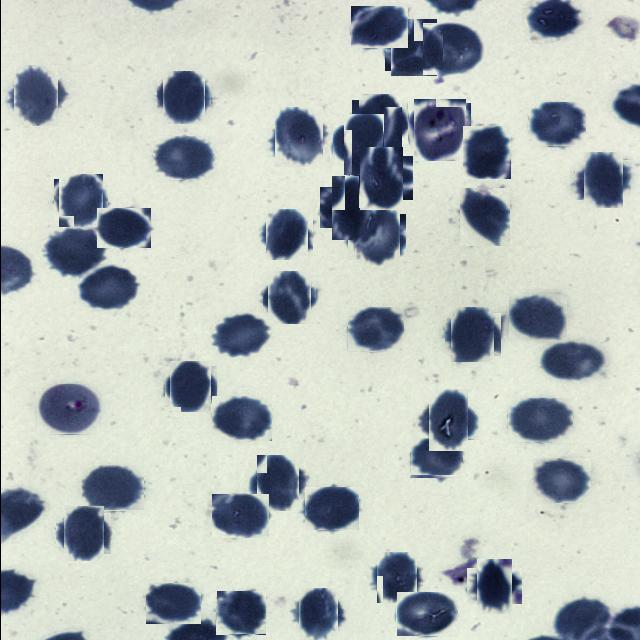red blood cell: (422, 23, 484, 75), (506, 398, 572, 443), (353, 151, 408, 205), (8, 69, 62, 123), (272, 110, 326, 164), (459, 188, 509, 246), (80, 465, 143, 511), (43, 228, 103, 276), (324, 182, 378, 234), (395, 592, 457, 637), (538, 340, 605, 381), (152, 136, 214, 180), (388, 22, 440, 74), (350, 211, 402, 263), (211, 396, 271, 441), (508, 294, 566, 340), (79, 265, 138, 310), (532, 458, 590, 503), (527, 102, 585, 147), (422, 394, 472, 446), (462, 124, 510, 178), (346, 307, 403, 352), (211, 493, 268, 538), (338, 119, 388, 170), (447, 310, 497, 360), (354, 97, 404, 147), (253, 458, 302, 508), (303, 487, 358, 531), (213, 314, 268, 358), (350, 6, 407, 48), (56, 177, 104, 226), (264, 273, 313, 321), (159, 74, 207, 122), (58, 510, 106, 558), (578, 156, 626, 204), (145, 583, 200, 624), (294, 590, 340, 638), (262, 212, 310, 258), (215, 591, 265, 635), (166, 364, 214, 409), (96, 208, 150, 248), (409, 438, 462, 478), (373, 555, 419, 601), (471, 563, 516, 609)
ring: (35, 384, 101, 435), (410, 101, 468, 158)
